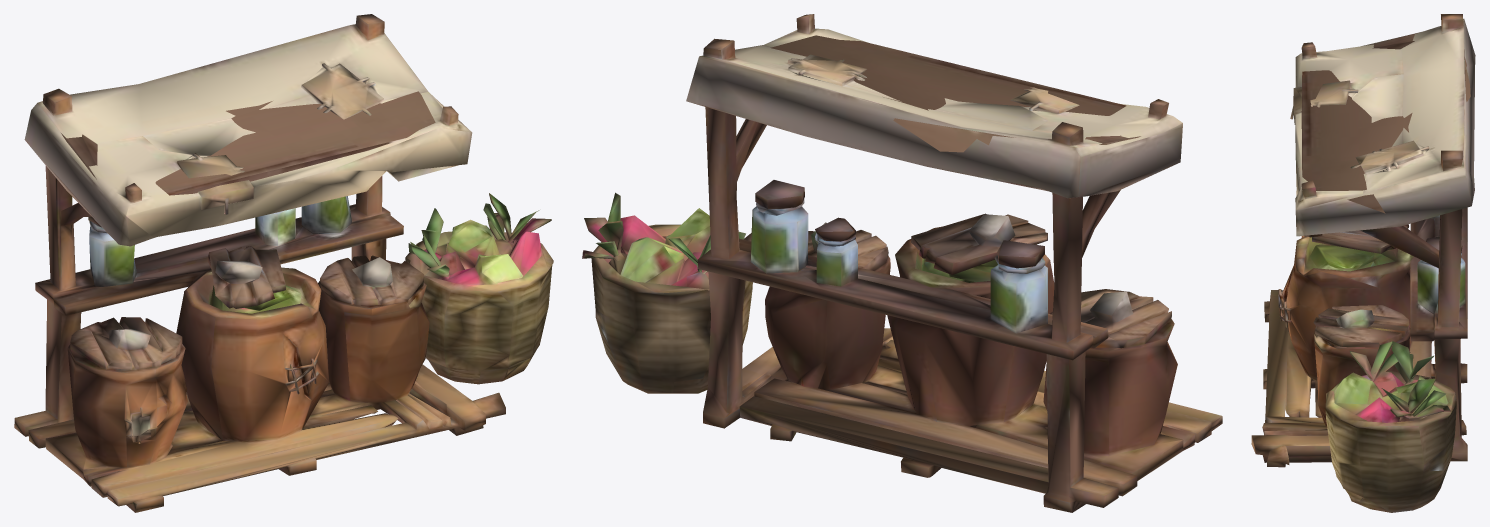
The model's file is yancai-2.glb.
3 views of the same model, side by side, from view 1: azimuth 30°, elevation 25°; view 2: azimuth 150°, elevation 25°; view 3: azimuth 270°, elevation 25° (orthographic). The views are drawn at different scales.
Parts seen in each view (by area): view 1: node_0; view 2: node_0; view 3: node_0.
Boxes of the visible parts, x1=… form: node_0: x1=14, y1=14, x2=553, y2=512; node_0: x1=582, y1=14, x2=1222, y2=512; node_0: x1=1251, y1=14, x2=1475, y2=512.
Bounding box in the file's own units: 0.9886 × 0.6344 × 0.4186.
Materials: 1 (1 with a texture image).
